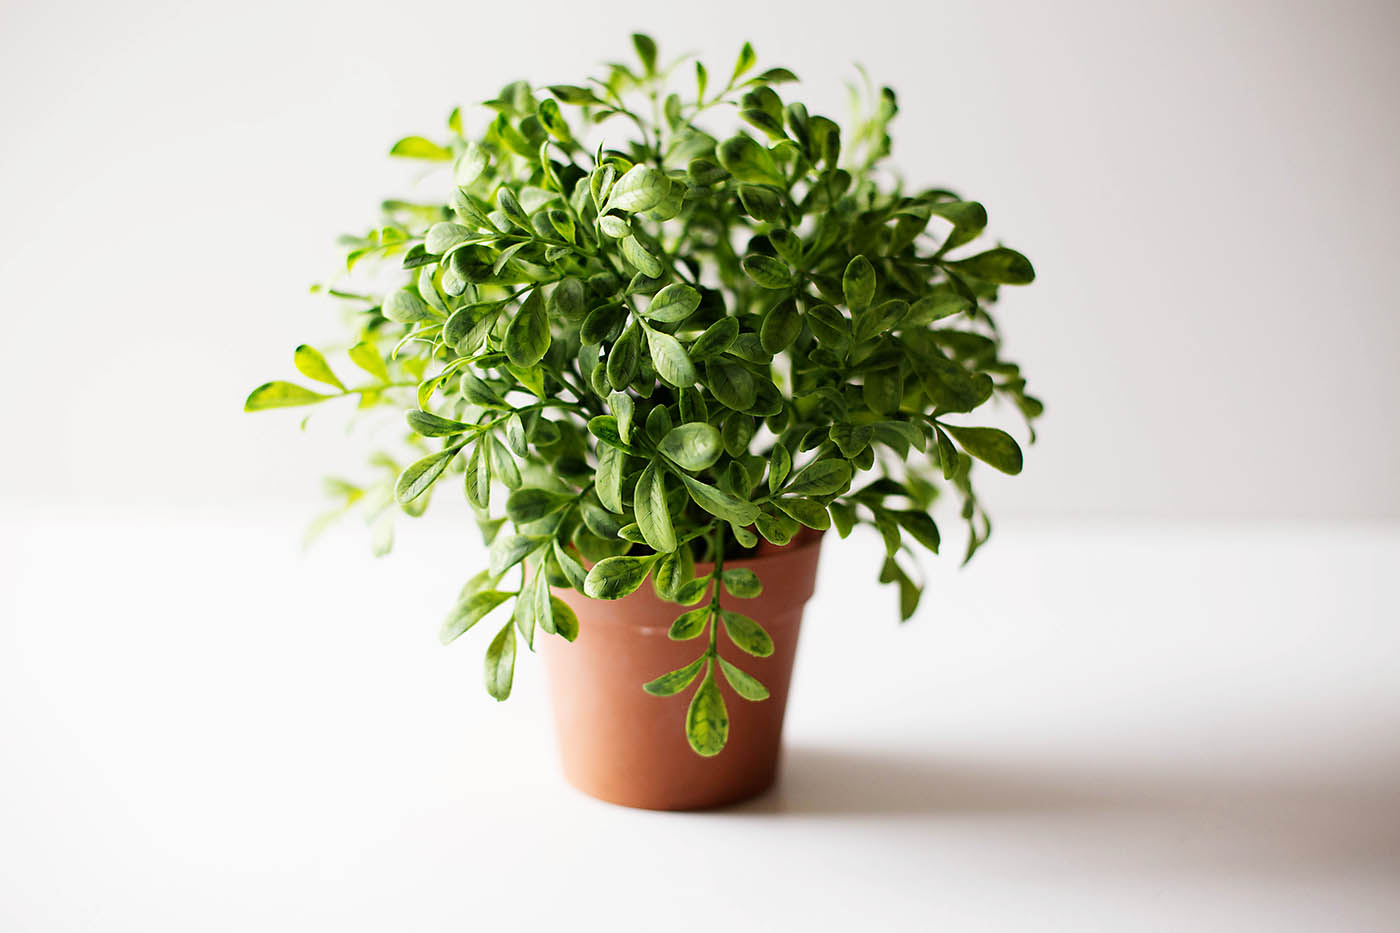tire: (528, 515, 824, 808)
